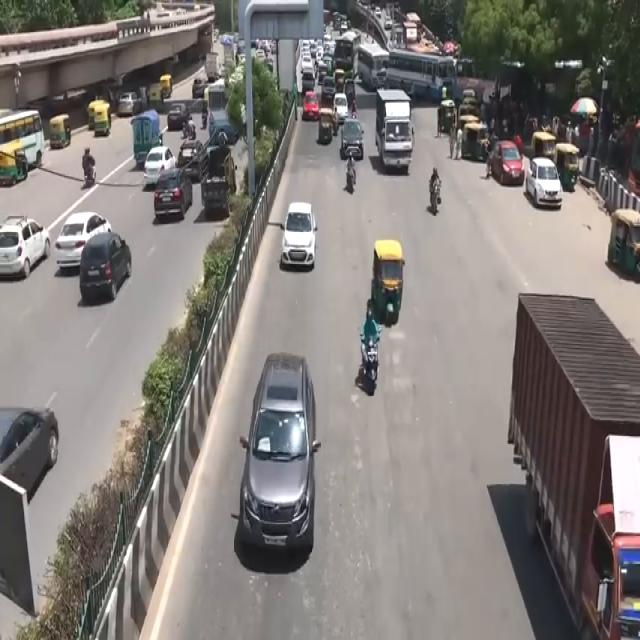BUS: (386, 46, 456, 99), (0, 110, 44, 168)
CMT: (88, 98, 113, 135)
MOTORCYCLE: (362, 336, 379, 397), (429, 182, 440, 216)
TRUCK: (516, 287, 638, 636), (373, 90, 412, 177)
